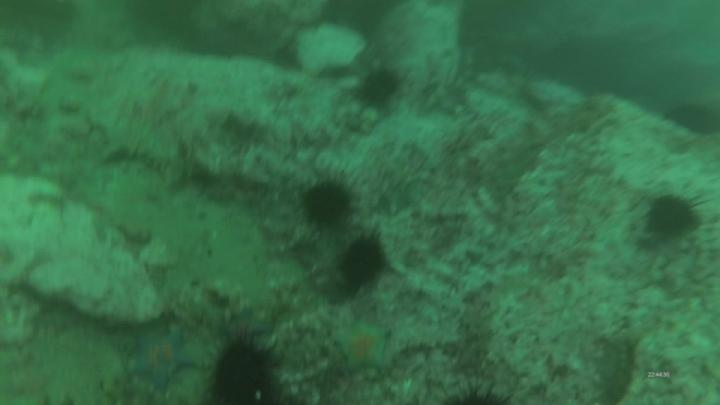echinus: (206, 337, 289, 405), (642, 189, 708, 244), (301, 175, 358, 232), (340, 233, 388, 295), (436, 374, 519, 405), (664, 102, 720, 143), (356, 68, 401, 108)
holothurian: (104, 141, 189, 190)
starfish: (126, 324, 197, 391), (335, 318, 397, 378), (219, 308, 276, 344)
